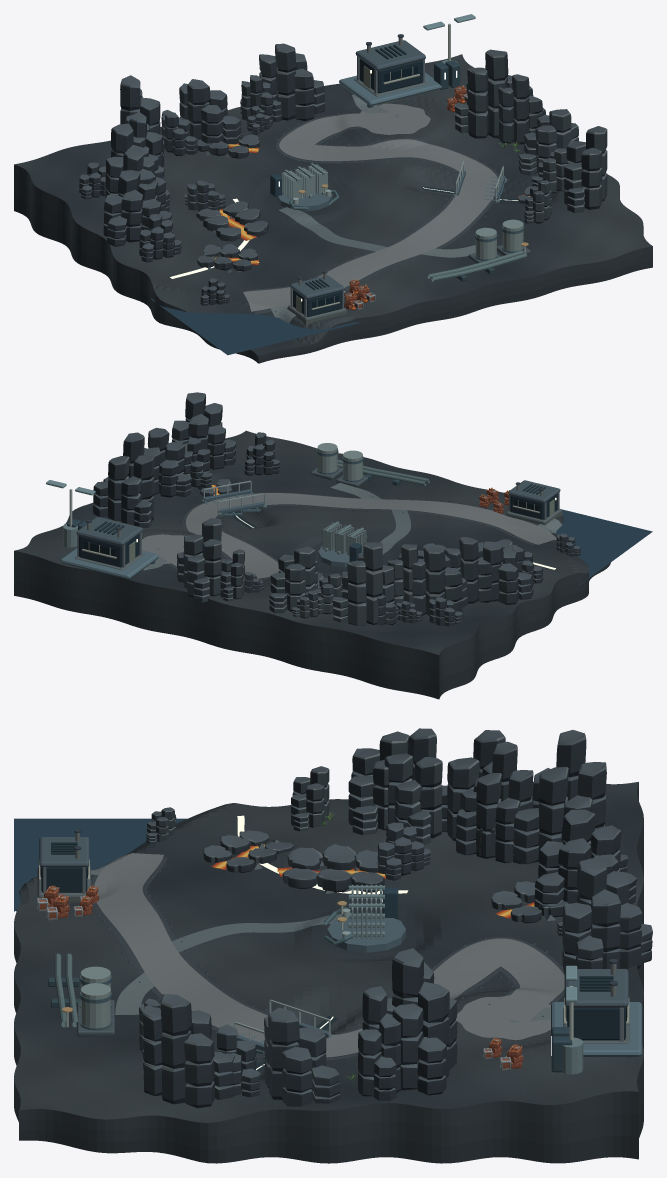
The model's file is vulkara.glb.
3 renders of one model, top to bottom at view 1: azimuth 30°, elevation 25°; view 2: azimuth 150°, elevation 25°; view 3: azimuth 270°, elevation 25°, orthographic. The views are drawn at different scales.
Parts seen in each view (by area): view 1: Static terrain and architecture • material batches; view 2: Static terrain and architecture • material batches; view 3: Static terrain and architecture • material batches.
Part boxes in pixels (left/top/right/bottom): Static terrain and architecture • material batches: left=14, top=23, right=652, bottom=363; Static terrain and architecture • material batches: left=14, top=392, right=652, bottom=699; Static terrain and architecture • material batches: left=14, top=728, right=652, bottom=1163.
Size of the model in its own units: 24 by 6.28 by 20.29.
